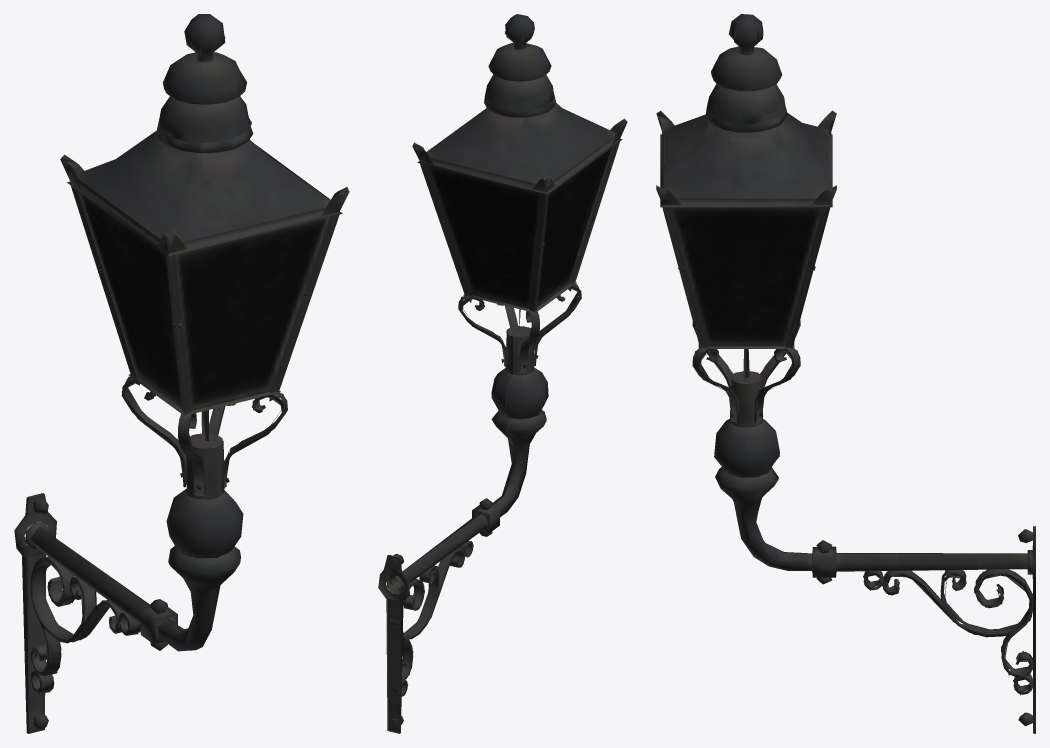
File: wall_lantern.glb
The picture shows the model from 3 angles, left to right: view 1: azimuth 30°, elevation 25°; view 2: azimuth 150°, elevation 25°; view 3: azimuth 270°, elevation 25°; orthographic projection. The views are drawn at different scales.
Visible parts, largest first — view 1: street_lamp_02; view 2: street_lamp_02; view 3: street_lamp_02.
Boxes of the visible parts, x1,y1,x2,y2 form: street_lamp_02: (14, 14, 349, 733); street_lamp_02: (378, 14, 627, 733); street_lamp_02: (656, 14, 1035, 733).
Bounding box in the file's own units: 0.3839 × 1.67 × 0.8055.
3 materials, 3 textured.
